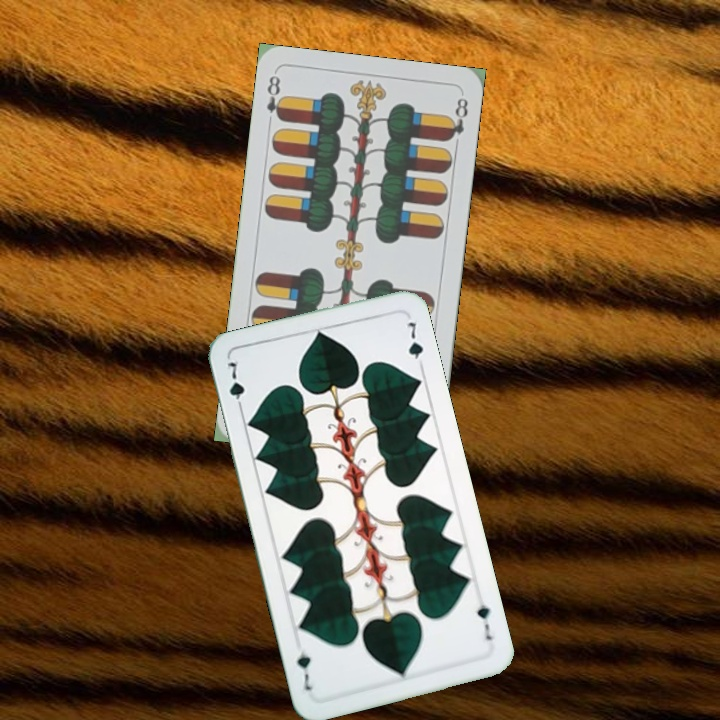E8: (262, 71, 287, 124)
G7: (223, 356, 247, 415), (472, 600, 495, 643)
